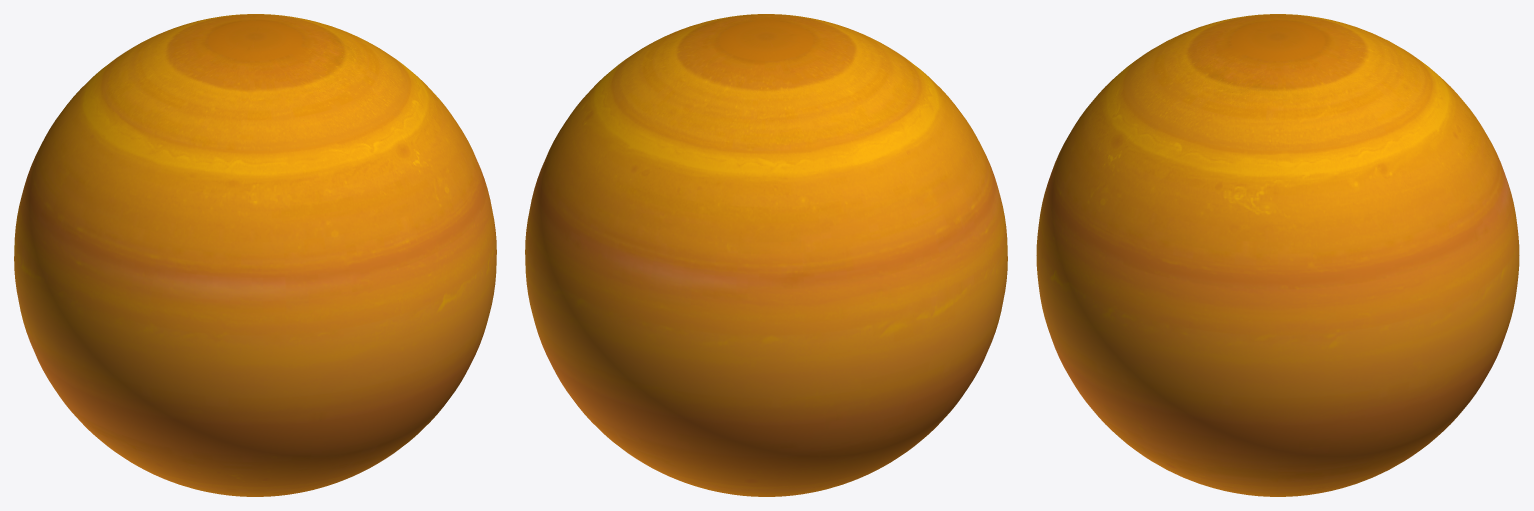
File: rho_CrB_b.glb
The picture shows the model from 3 angles, left to right: view 1: azimuth 30°, elevation 25°; view 2: azimuth 150°, elevation 25°; view 3: azimuth 270°, elevation 25°; orthographic projection.
Parts seen in each view (by area): view 1: rho_CrB_b; view 2: rho_CrB_b; view 3: rho_CrB_b.
Boxes of the visible parts, x1=… form: rho_CrB_b: x1=14, y1=14, x2=496, y2=496; rho_CrB_b: x1=525, y1=14, x2=1007, y2=496; rho_CrB_b: x1=1036, y1=14, x2=1519, y2=496.
Bounding box in the file's own units: 2 × 2 × 2.
1 material, 1 textured.
